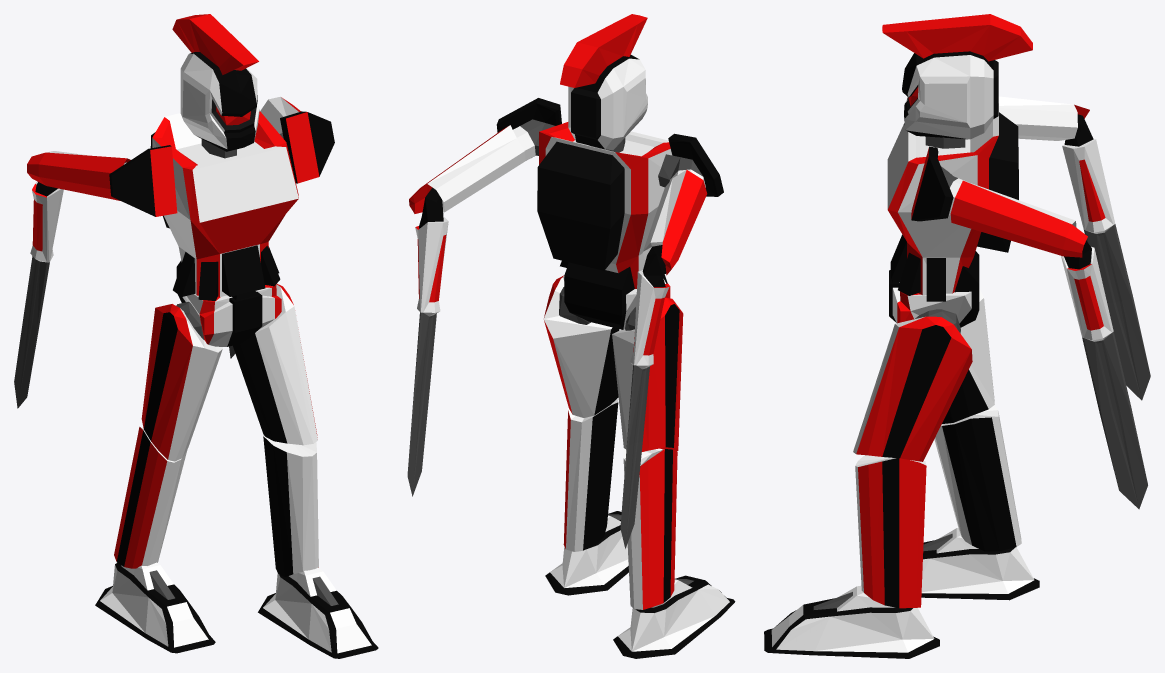
Rendered from robots_000024.obj.
3 views of the same model, side by side, from view 1: azimuth 30°, elevation 25°; view 2: azimuth 150°, elevation 25°; view 3: azimuth 270°, elevation 25° (orthographic). The views are drawn at different scales.
Visible parts, largest first — view 1: Chest_plate_Cube.004, Head_gladiator_Cube.024, R_Thigh_Cube.005, R_Thigh.002_Cube.027, R_Forearm.001_Cube.028, R_Shin.002_Cube.029, R_Foot_Cube, R_Foot.002_Cube.035, R_Shin_Cube.007, Pelvis_Cube.006, R_Arm.002_Cube.032, R_Arm.003_Cube.034 (+1 smaller); view 2: Chest_plate_Cube.004, R_Forearm.002_Cube.033, R_Forearm.001_Cube.028, Head_gladiator_Cube.024, R_Shin_Cube.007, R_Shin.002_Cube.029, R_Thigh_Cube.005, R_Thigh.002_Cube.027, R_Foot_Cube, Pelvis_Cube.006, R_Foot.002_Cube.035, R_Arm.002_Cube.032 (+1 smaller); view 3: R_Forearm.002_Cube.033, Chest_plate_Cube.004, Head_gladiator_Cube.024, R_Thigh.002_Cube.027, R_Forearm.001_Cube.028, R_Shin.002_Cube.029, R_Shin_Cube.007, R_Foot.002_Cube.035, R_Foot_Cube, R_Thigh_Cube.005, Pelvis_Cube.006, R_Arm.003_Cube.034.
Part boxes in pixels (left/top/right/bottom): Chest_plate_Cube.004: left=150, top=111, right=298, bottom=300; Head_gladiator_Cube.024: left=172, top=14, right=259, bottom=151; R_Thigh_Cube.005: left=141, top=304, right=222, bottom=461; R_Thigh.002_Cube.027: left=233, top=284, right=317, bottom=445; R_Forearm.001_Cube.028: left=14, top=151, right=130, bottom=408; R_Shin.002_Cube.029: left=263, top=434, right=318, bottom=576; R_Foot_Cube: left=95, top=562, right=215, bottom=653; R_Foot.002_Cube.035: left=258, top=567, right=378, bottom=658; R_Shin_Cube.007: left=114, top=426, right=187, bottom=568; Pelvis_Cube.006: left=176, top=260, right=281, bottom=346; R_Arm.002_Cube.032: left=109, top=145, right=177, bottom=216; R_Arm.003_Cube.034: left=280, top=111, right=334, bottom=183; Chest_plate_Cube.004: left=537, top=122, right=672, bottom=288; R_Forearm.002_Cube.033: left=407, top=125, right=525, bottom=496; R_Forearm.001_Cube.028: left=620, top=169, right=707, bottom=548; Head_gladiator_Cube.024: left=560, top=14, right=647, bottom=150; R_Shin_Cube.007: left=623, top=448, right=677, bottom=609; R_Shin.002_Cube.029: left=563, top=399, right=618, bottom=551; R_Thigh_Cube.005: left=612, top=297, right=683, bottom=451; R_Thigh.002_Cube.027: left=543, top=275, right=619, bottom=417; R_Foot_Cube: left=613, top=575, right=735, bottom=658; Pelvis_Cube.006: left=563, top=262, right=670, bottom=329; R_Foot.002_Cube.035: left=545, top=511, right=628, bottom=595; R_Arm.002_Cube.032: left=658, top=133, right=723, bottom=196; R_Forearm.002_Cube.033: left=950, top=180, right=1147, bottom=509; Chest_plate_Cube.004: left=887, top=103, right=1018, bottom=301; Head_gladiator_Cube.024: left=882, top=14, right=1032, bottom=139; R_Thigh.002_Cube.027: left=853, top=316, right=972, bottom=461; R_Forearm.001_Cube.028: left=998, top=96, right=1150, bottom=400; R_Shin.002_Cube.029: left=855, top=455, right=926, bottom=608; R_Shin_Cube.007: left=934, top=405, right=1021, bottom=551; R_Foot.002_Cube.035: left=764, top=585, right=939, bottom=658; R_Foot_Cube: left=921, top=528, right=1039, bottom=600; R_Thigh_Cube.005: left=942, top=288, right=994, bottom=423; Pelvis_Cube.006: left=889, top=251, right=979, bottom=327; R_Arm.003_Cube.034: left=911, top=146, right=966, bottom=221.
Bounding box in the file's own units: 1.51 × 3.17 × 1.86.
